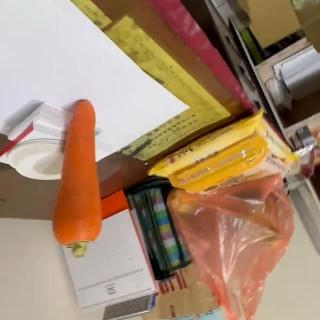carrot: (50, 98, 104, 255)
